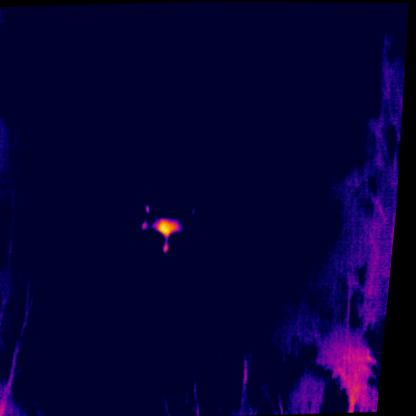drone: (142, 203, 200, 252)
